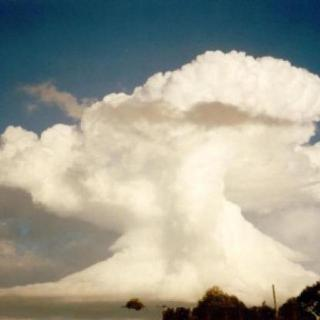Cumulonimbus: (0, 2, 320, 310)
